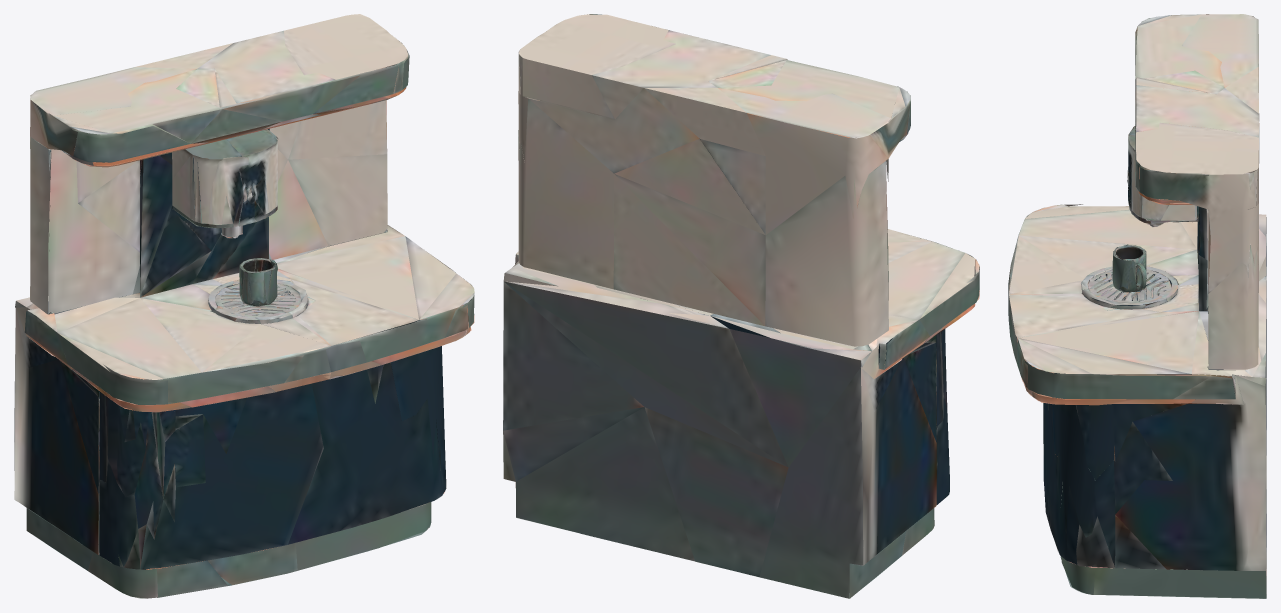
Rendered from water_dispenser.glb.
3 views of the same model, side by side, from view 1: azimuth 30°, elevation 25°; view 2: azimuth 150°, elevation 25°; view 3: azimuth 270°, elevation 25° (orthographic). The views are drawn at different scales.
Parts seen in each view (by area): view 1: Mesh_0; view 2: Mesh_0; view 3: Mesh_0.
Part boxes in pixels (left/top/right/bottom): Mesh_0: left=14, top=14, right=474, bottom=598; Mesh_0: left=503, top=14, right=979, bottom=598; Mesh_0: left=1008, top=14, right=1266, bottom=598.
Size of the model in its own units: 0.6115 by 0.7227 by 0.3932.
1 material, 1 textured.
